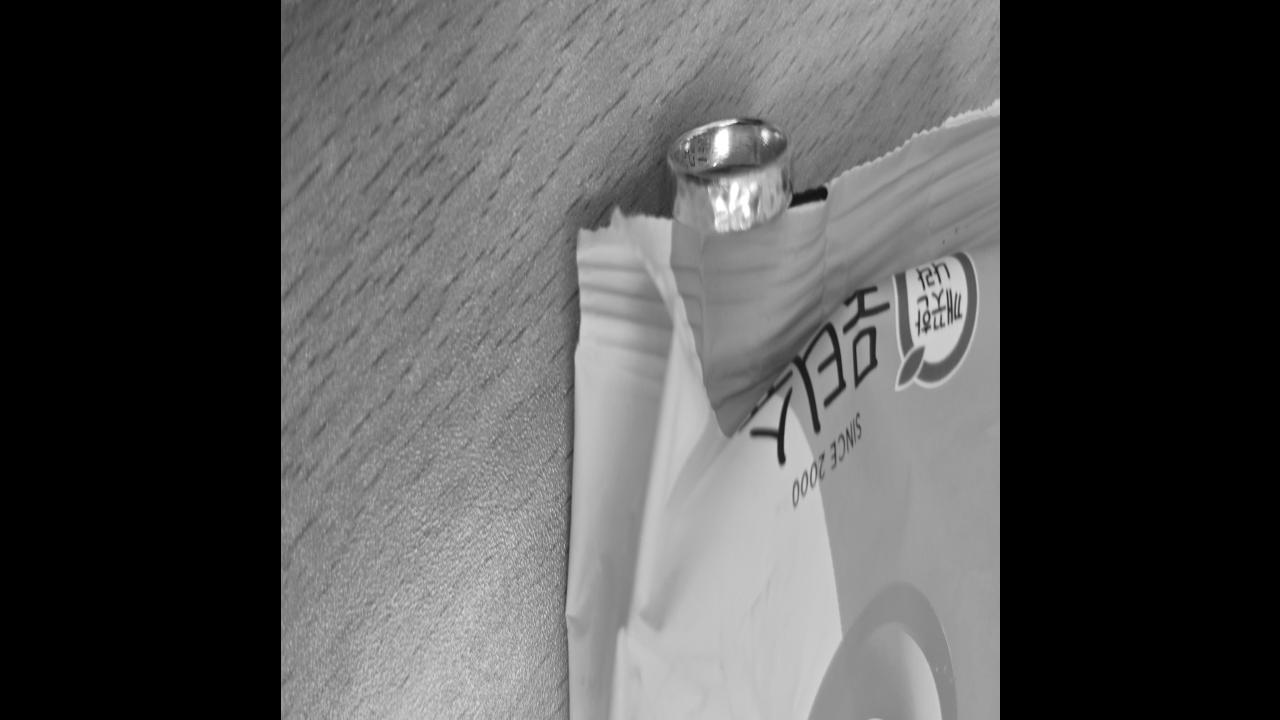ring: (666, 112, 791, 234)
